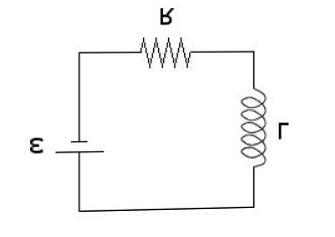resistor: (126, 31, 198, 77)
